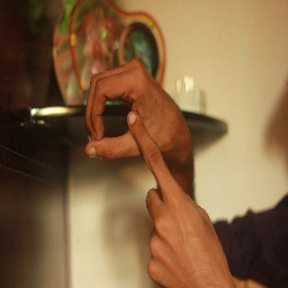Q: (84, 58, 211, 221)
